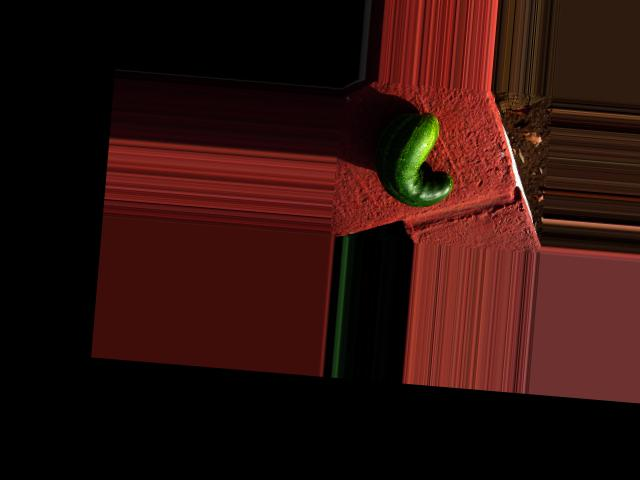cucumber: (372, 109, 460, 209)
